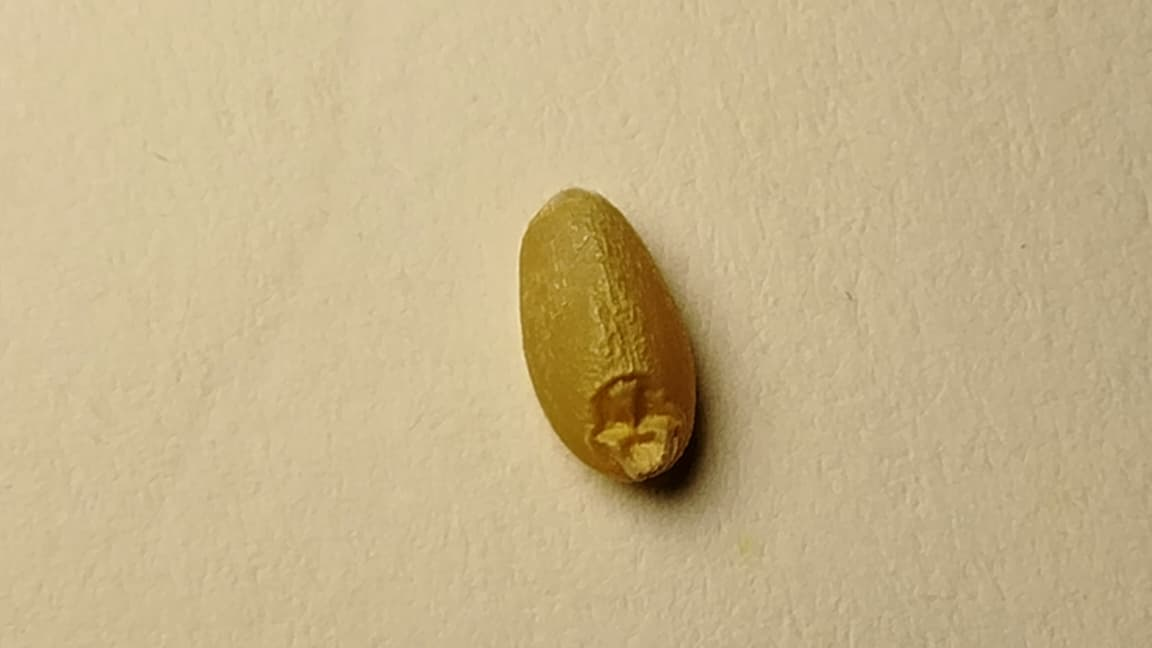healthy: (520, 187, 695, 480)
